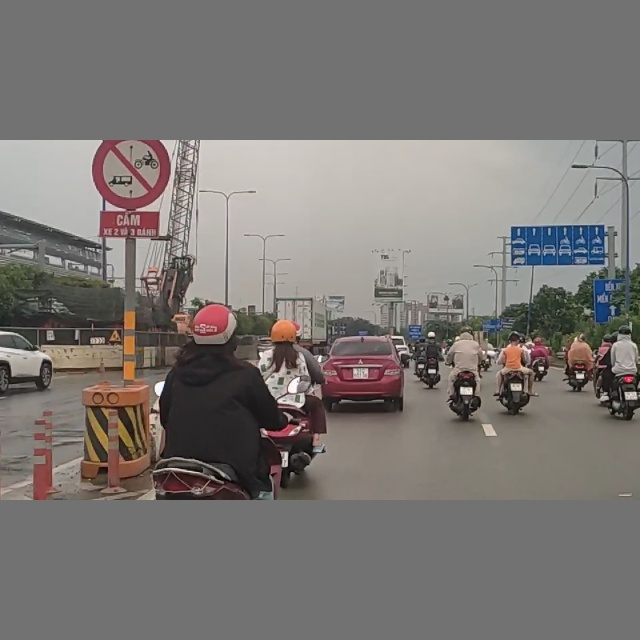P.111: (93, 141, 170, 208)
